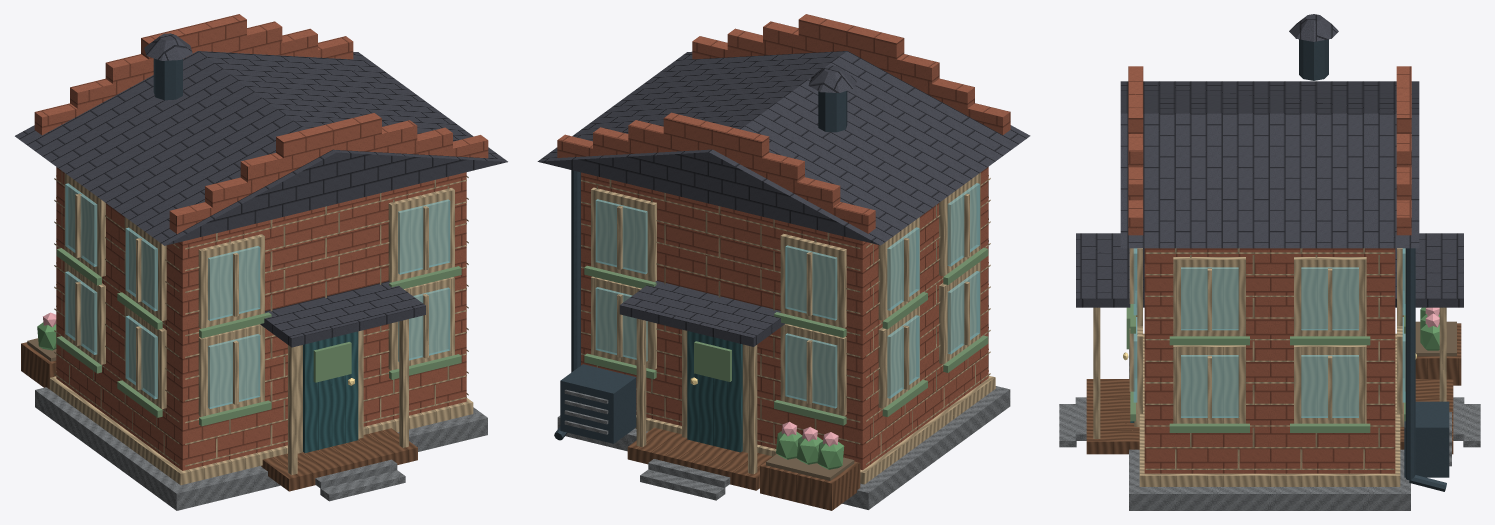
The model's file is house_townhouse_lv2.glb.
3 views of the same model, side by side, from view 1: azimuth 30°, elevation 25°; view 2: azimuth 150°, elevation 25°; view 3: azimuth 270°, elevation 25° (orthographic).
Visible parts, largest first — view 1: gable_roof, walls, foundation, front_porch_canopy, front_door, floor_trim, front_window_frame.003, front_window_frame.002, front_window_frame, front_deck, front_window_frame.001, front_window_glass.003 (+33 smaller); view 2: gable_roof, walls, back_porch_canopy, foundation, back_window_frame.002, back_door, back_window_frame, back_window_frame.003, back_ac_unit, back_deck, back_window_frame.001, back_garden_bed (+38 smaller); view 3: gable_roof, walls, foundation, right_window_frame.002, right_window_frame.003, right_window_frame, right_window_frame.001, floor_trim, front_porch_canopy, back_porch_canopy, right_window_glass.002, right_window_glass.003 (+35 smaller).
Boxes of the visible parts, bbox=[...] form: gable_roof: bbox=[15, 51, 507, 245]; walls: bbox=[56, 167, 466, 470]; foundation: bbox=[35, 387, 487, 510]; front_porch_canopy: bbox=[260, 281, 425, 347]; front_door: bbox=[303, 331, 358, 452]; floor_trim: bbox=[49, 376, 473, 485]; front_window_frame.003: bbox=[388, 188, 454, 282]; front_window_frame.002: bbox=[198, 234, 264, 328]; front_window_frame: bbox=[198, 324, 264, 416]; front_deck: bbox=[261, 428, 417, 491]; front_window_frame.001: bbox=[388, 277, 454, 370]; front_window_glass.003: bbox=[398, 199, 450, 274]; gable_roof: bbox=[537, 51, 1030, 245]; walls: bbox=[581, 167, 988, 470]; back_porch_canopy: bbox=[619, 281, 785, 346]; foundation: bbox=[557, 386, 1010, 509]; back_window_frame.002: bbox=[780, 233, 846, 328]; back_door: bbox=[687, 331, 742, 452]; back_window_frame: bbox=[780, 324, 846, 416]; back_window_frame.003: bbox=[591, 187, 656, 281]; back_ac_unit: bbox=[560, 364, 636, 443]; back_deck: bbox=[627, 427, 772, 490]; back_window_frame.001: bbox=[591, 276, 656, 369]; back_garden_bed: bbox=[760, 454, 860, 510]; gable_roof: bbox=[1120, 81, 1419, 248]; walls: bbox=[1144, 248, 1395, 473]; foundation: bbox=[1129, 349, 1410, 510]; right_window_frame.002: bbox=[1173, 257, 1245, 336]; right_window_frame.003: bbox=[1294, 257, 1366, 336]; right_window_frame: bbox=[1173, 345, 1245, 423]; right_window_frame.001: bbox=[1294, 345, 1366, 423]; floor_trim: bbox=[1139, 333, 1400, 486]; front_porch_canopy: bbox=[1076, 233, 1144, 307]; back_porch_canopy: bbox=[1395, 233, 1463, 307]; right_window_glass.002: bbox=[1181, 267, 1238, 330]; right_window_glass.003: bbox=[1301, 267, 1358, 330].
Size of the model in its own units: 3.15 by 3.37 by 3.36.
Materials: 13 (7 with a texture image).
